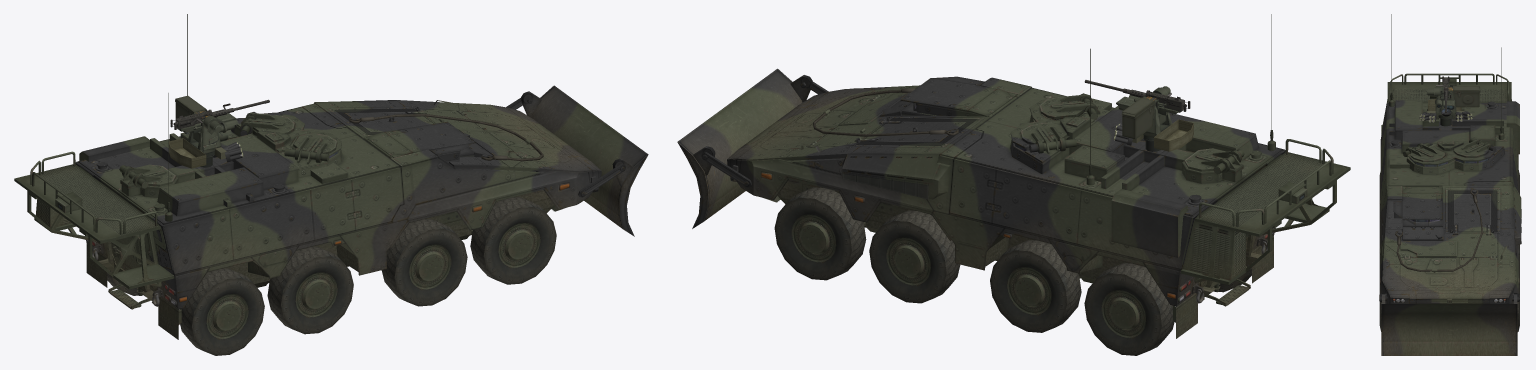
Rendered from industrial_engineering.glb.
3 renders of one model, left to right at view 1: azimuth 30°, elevation 25°; view 2: azimuth 150°, elevation 25°; view 3: azimuth 270°, elevation 25°, orthographic. The views are drawn at different scales.
Parts seen in each view (by area): view 1: hull, topboxes, front piece, wheel2, wheel6, wheel4, wheel8, bascket, alpha plate, hatch3, mount, mudguard (+8 smaller); view 2: hull, topboxes, bascket, front piece, wheel, wheel5, wheel3, wheel7, alpha plate, sidebox, hatch3, mount (+8 smaller); view 3: hull, front piece, topboxes, hatch3, alpha plate, bascket, bars, mount, ammobox, hatch2, hatch, cable (+5 smaller).
Part boxes in pixels (bbox=[...]): hull: bbox=[75, 100, 601, 309]; topboxes: bbox=[120, 112, 348, 215]; front piece: bbox=[506, 85, 648, 236]; wheel2: bbox=[470, 197, 556, 284]; wheel6: bbox=[267, 246, 353, 334]; wheel4: bbox=[381, 219, 467, 306]; wheel8: bbox=[180, 268, 264, 355]; bascket: bbox=[14, 136, 174, 289]; alpha plate: bbox=[17, 165, 157, 240]; hatch3: bbox=[363, 121, 475, 162]; mount: bbox=[169, 110, 226, 168]; mudguard: bbox=[86, 243, 181, 339]; hull: bbox=[727, 77, 1285, 306]; topboxes: bbox=[1010, 97, 1259, 190]; bascket: bbox=[1111, 152, 1350, 284]; front piece: bbox=[677, 68, 828, 228]; wheel: bbox=[774, 187, 866, 280]; wheel5: bbox=[990, 239, 1081, 332]; wheel3: bbox=[869, 210, 960, 303]; wheel7: bbox=[1084, 263, 1174, 355]; alpha plate: bbox=[1198, 153, 1347, 232]; sidebox: bbox=[841, 153, 950, 199]; hatch3: bbox=[900, 76, 1019, 116]; mount: bbox=[1132, 86, 1193, 151]; hull: bbox=[1379, 101, 1519, 303]; front piece: bbox=[1379, 293, 1519, 355]; topboxes: bbox=[1389, 100, 1504, 174]; hatch3: bbox=[1393, 186, 1442, 226]; alpha plate: bbox=[1389, 82, 1510, 102]; bascket: bbox=[1381, 79, 1519, 154]; bars: bbox=[1390, 73, 1509, 101]; mount: bbox=[1427, 86, 1464, 126]; ammobox: bbox=[1453, 86, 1480, 107]; hatch2: bbox=[1403, 142, 1445, 161]; hatch: bbox=[1453, 138, 1496, 157]; cable: bbox=[1395, 189, 1483, 271].
Size of the model in its own units: 8 by 3.81 by 2.52.
Materials: 11 (11 with a texture image).
